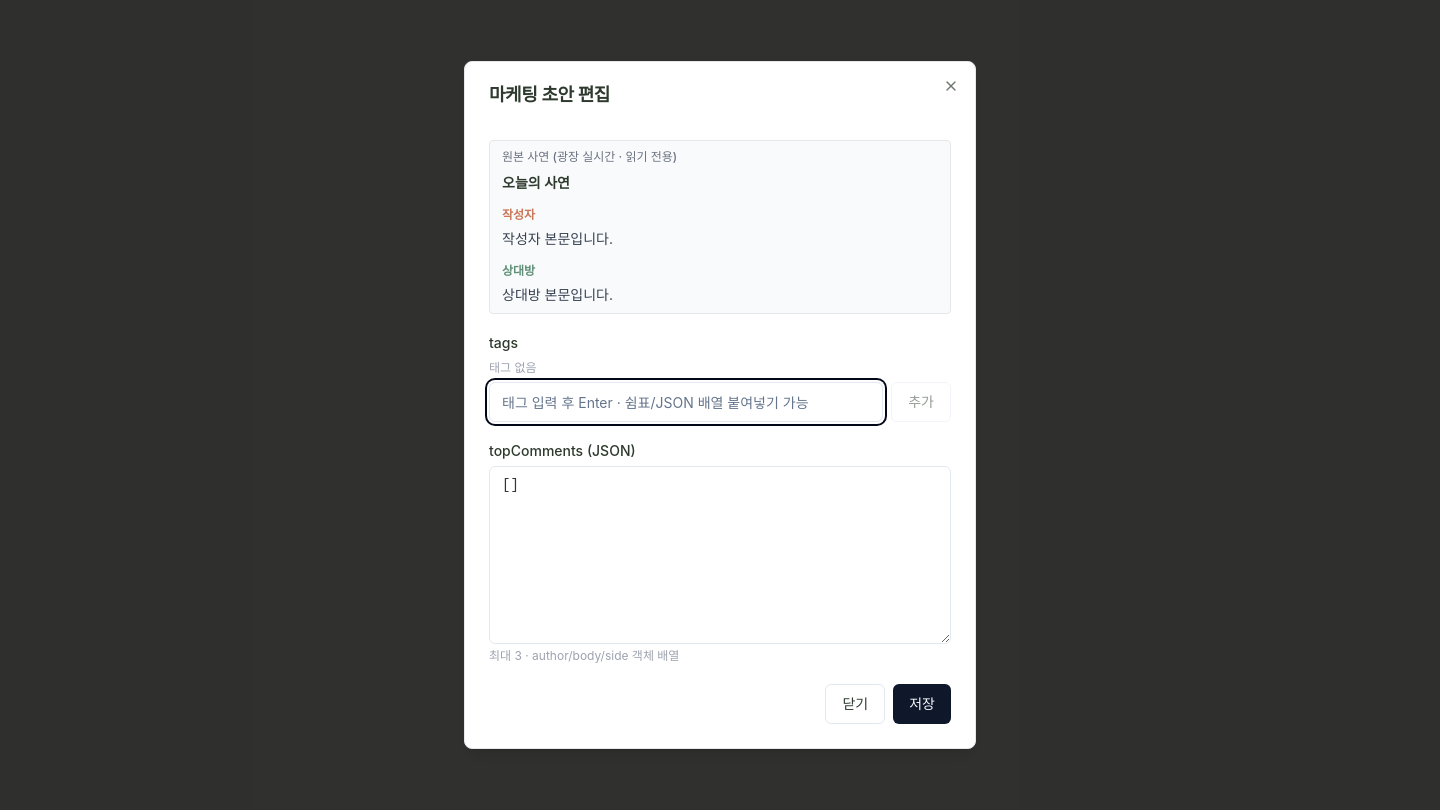
HoldingDraftDialog › adds tags typed comma-separated or as a JSON array via the add button
This screenshot has width=1440, height=810.
Expected: the text "오늘의 사연" is shown, [502,174,570,191]
Type "하나, 둘, 셋" into the field with test id "holding-draft-tags-input" at (686, 402), box [489,382,883,422]
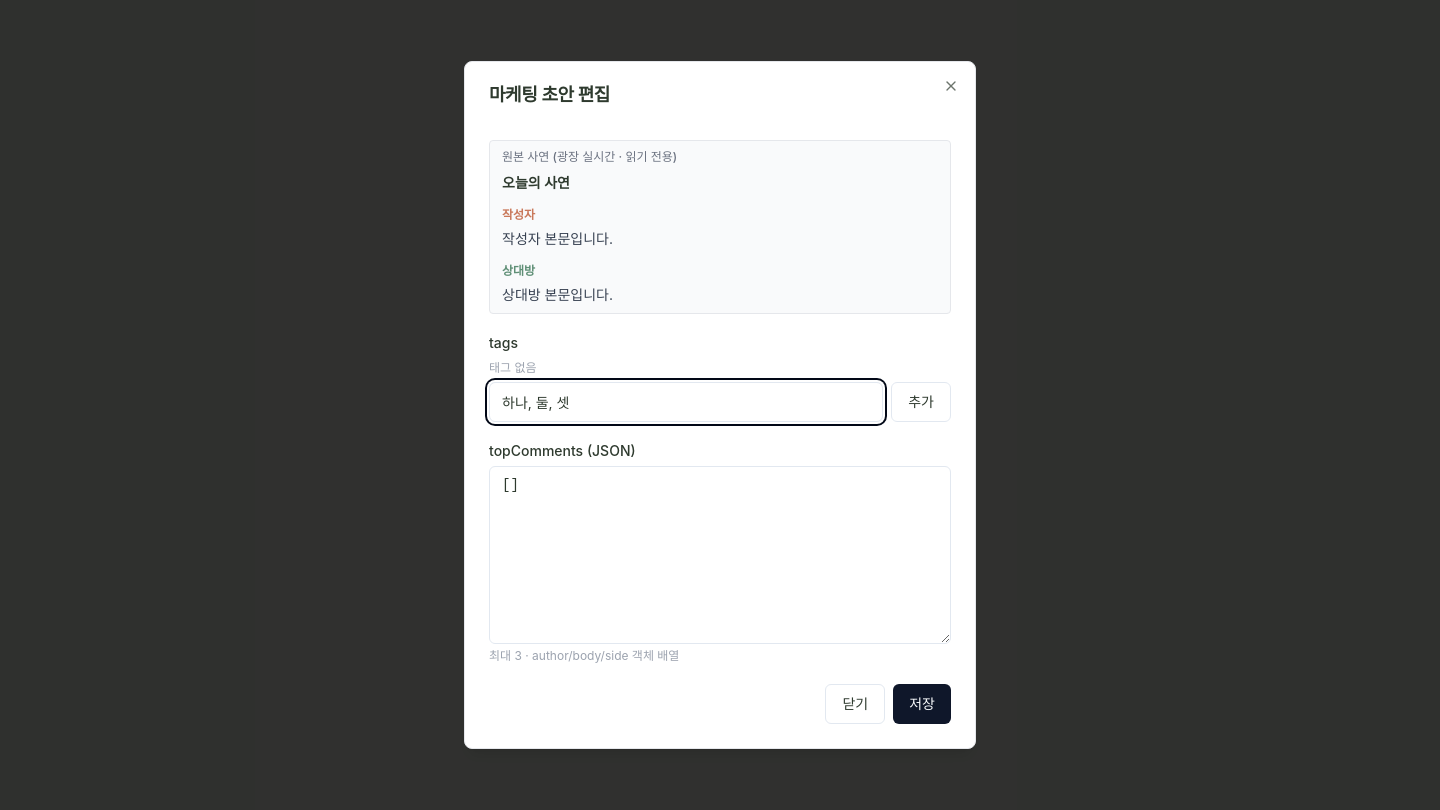
Click the button with test id "holding-draft-tags-add" at (921, 402), box [891,382,951,422]
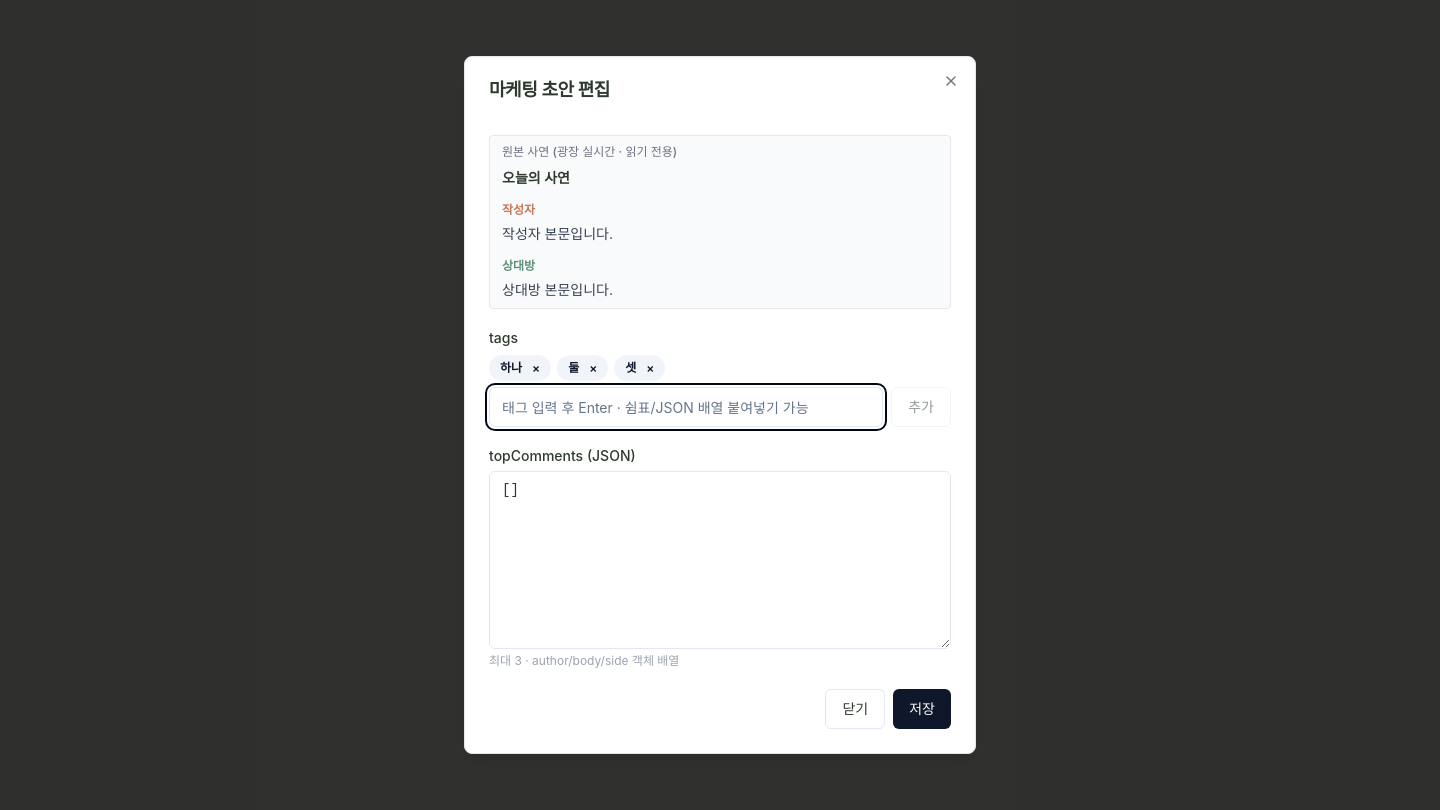
Expected: the element with test id "holding-draft-tag-0" shows "하나", [500,360,522,375]
Expected: the element with test id "holding-draft-tag-1" shows "둘", [568,360,579,375]
Expected: the element with test id "holding-draft-tag-2" shows "셋", [625,360,636,375]
